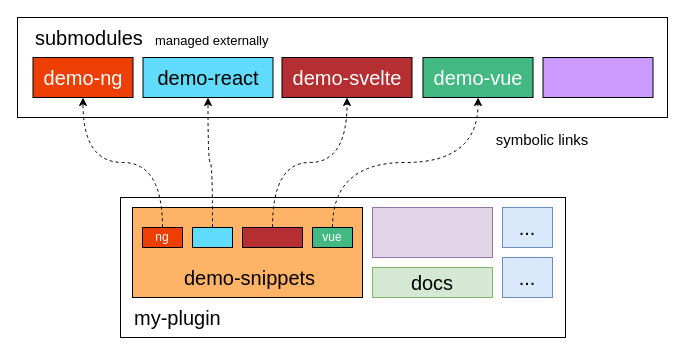
This 685x355 diagram has some shape labels left out. The box of each missing label's shape, as (x1, y1, x2, y2) in pixels:
react: (192, 226, 232, 248)
src: (372, 206, 492, 258)
svelte: (242, 226, 302, 248)
tools: (542, 56, 653, 98)
